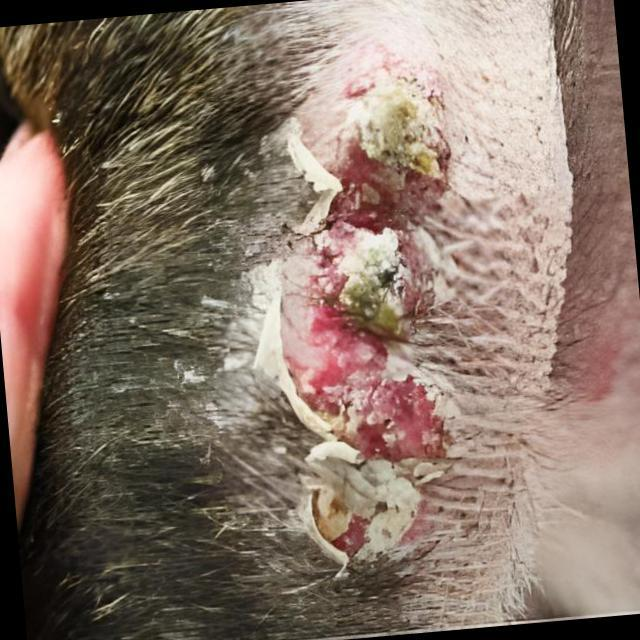allergic dermatitis: (266, 71, 454, 588)
